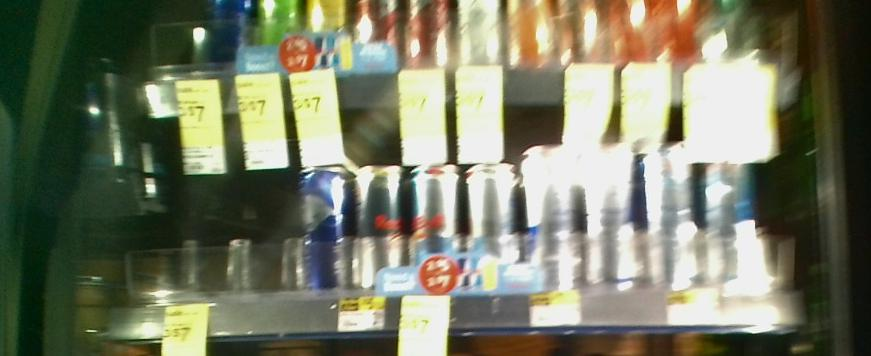bottle: (581, 139, 638, 292), (642, 130, 697, 283), (702, 130, 756, 285), (521, 142, 576, 294), (407, 157, 461, 293), (353, 155, 405, 296), (467, 155, 517, 294), (295, 163, 348, 291)
